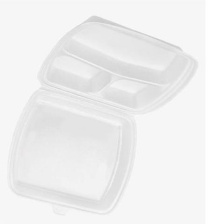foam_box: (1, 11, 204, 220)
